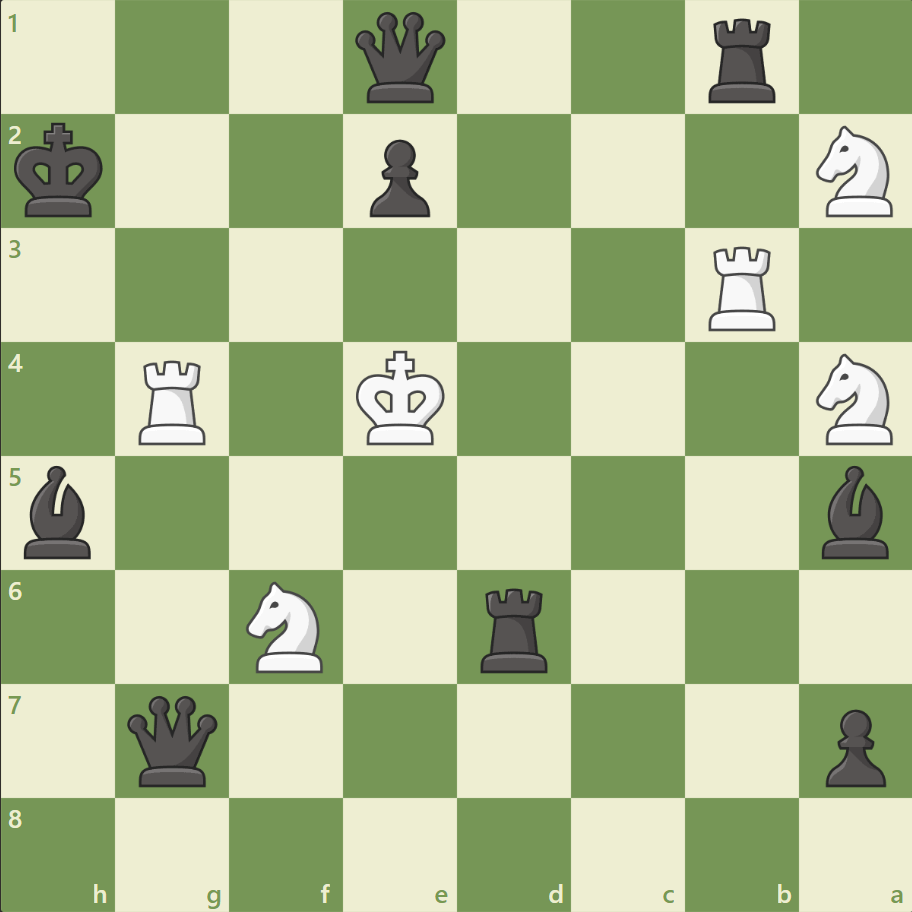K: (351, 344, 451, 452)
N: (238, 575, 335, 677), (806, 348, 903, 450), (806, 121, 903, 223)
R: (700, 239, 783, 336), (133, 352, 215, 449)
b: (812, 460, 896, 563), (17, 460, 101, 563)
k: (11, 117, 111, 225)
p: (815, 700, 889, 791), (361, 132, 435, 223)
q: (124, 690, 223, 789), (351, 9, 450, 108)
r: (473, 579, 556, 676), (700, 12, 783, 109)
